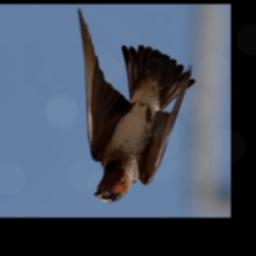Swallow: (78, 8, 195, 204)
